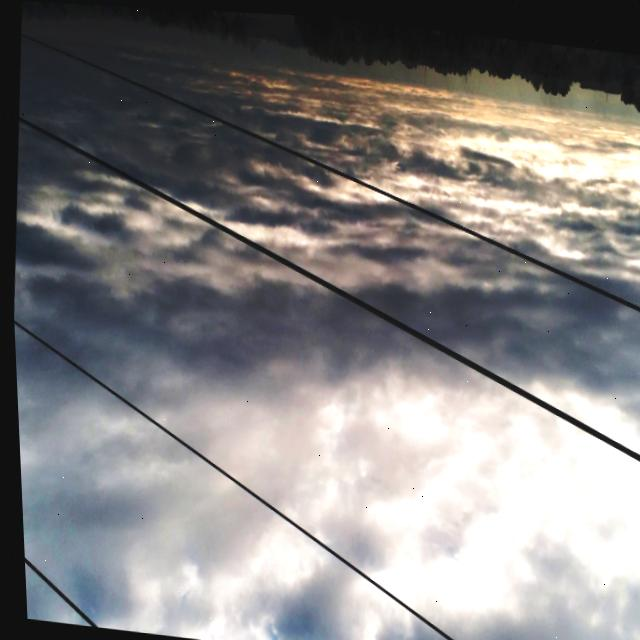wires: (17, 98, 640, 475), (21, 23, 640, 311), (17, 303, 472, 640), (19, 548, 98, 626)
